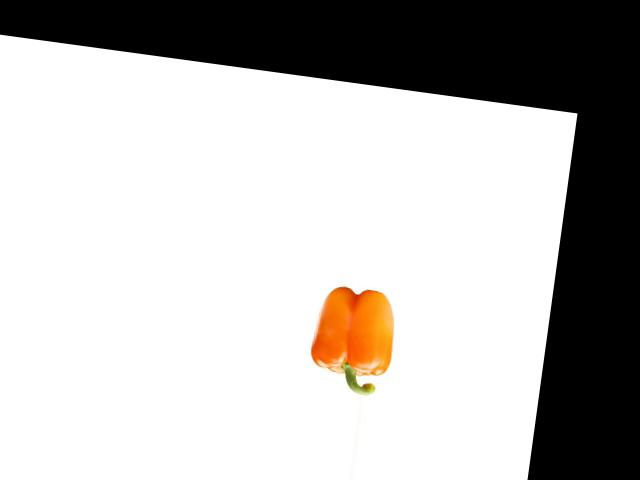bell_pepper: (298, 281, 409, 399)
